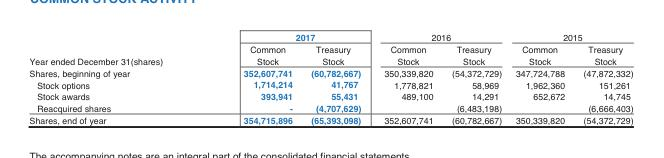table: (28, 29, 632, 127)
table column: (28, 29, 202, 127), (202, 29, 301, 127), (301, 29, 371, 127), (371, 29, 441, 127), (441, 29, 508, 127), (508, 29, 573, 127), (573, 29, 632, 127)
table column header: (28, 29, 632, 66)
table row: (28, 43, 632, 66), (28, 29, 632, 43), (28, 113, 632, 127), (28, 66, 632, 78), (28, 78, 632, 90), (28, 101, 632, 113), (28, 90, 632, 101)
table spanning cell: (28, 29, 202, 66), (202, 29, 371, 43), (371, 29, 508, 43), (508, 29, 632, 43)
